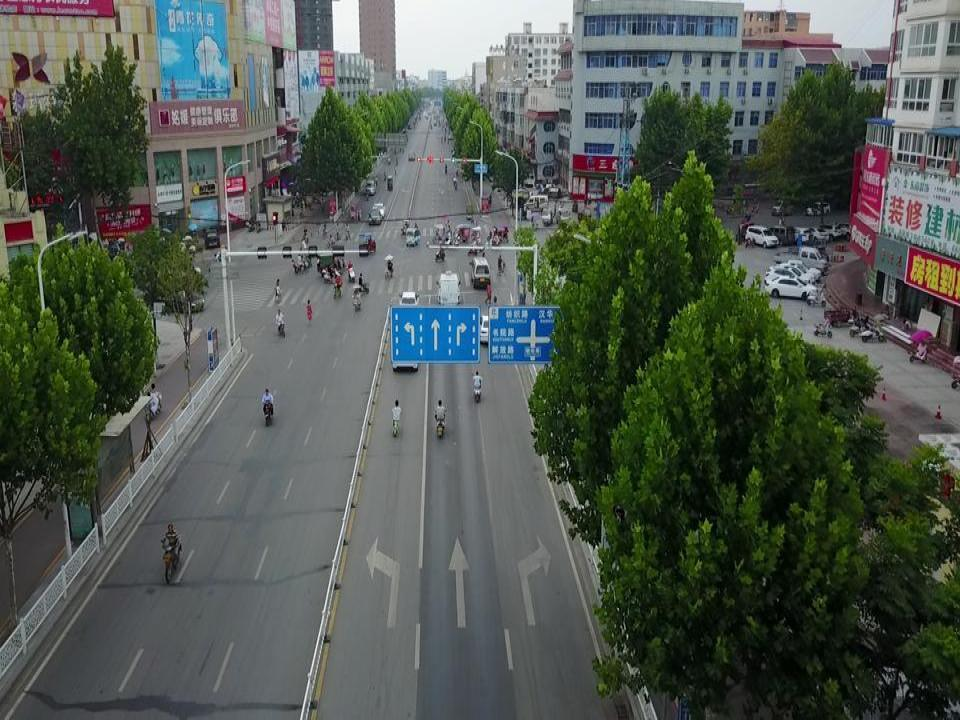car: (149, 287, 204, 312), (765, 275, 818, 300), (392, 325, 419, 371), (771, 262, 817, 286), (764, 265, 814, 287), (777, 259, 822, 281), (745, 226, 779, 250), (480, 312, 500, 344), (785, 227, 815, 245), (801, 225, 829, 244), (813, 223, 841, 241), (836, 220, 859, 240), (202, 228, 221, 249), (398, 291, 419, 309), (180, 233, 196, 255), (367, 207, 382, 224), (372, 201, 386, 219)
truck: (771, 244, 829, 276)
van: (436, 270, 461, 307), (469, 256, 492, 289), (768, 224, 795, 247), (771, 199, 797, 216), (524, 193, 548, 211), (804, 201, 831, 216), (365, 180, 377, 196)
